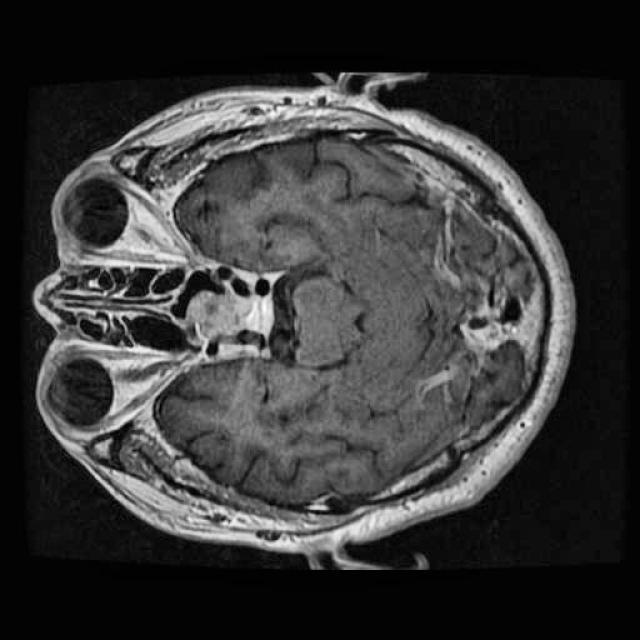Tumor: (173, 278, 266, 359)
